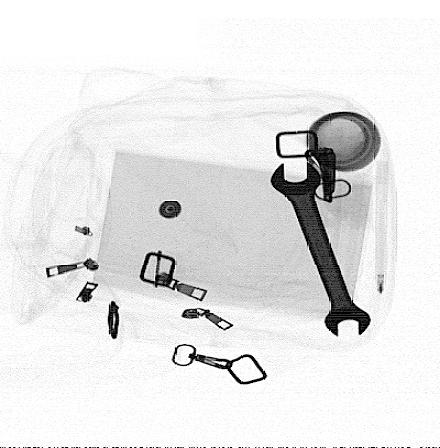Wrench: (268, 159, 372, 339)
